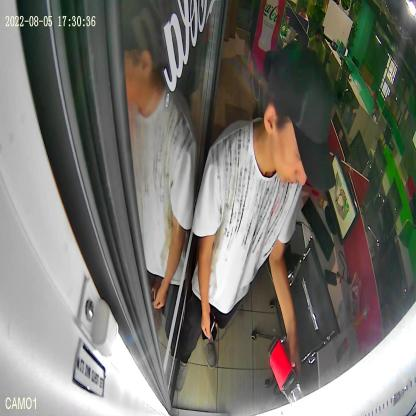red: (268, 328, 303, 402)
